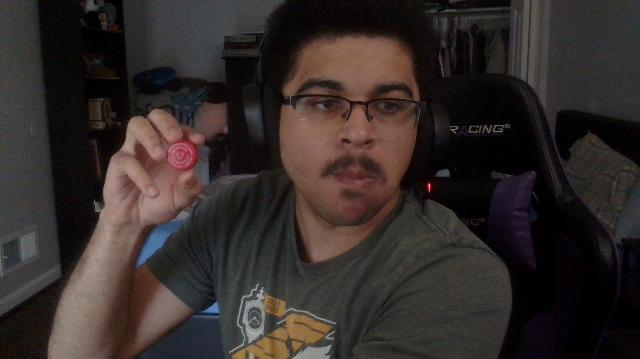cap: (168, 140, 198, 172)
